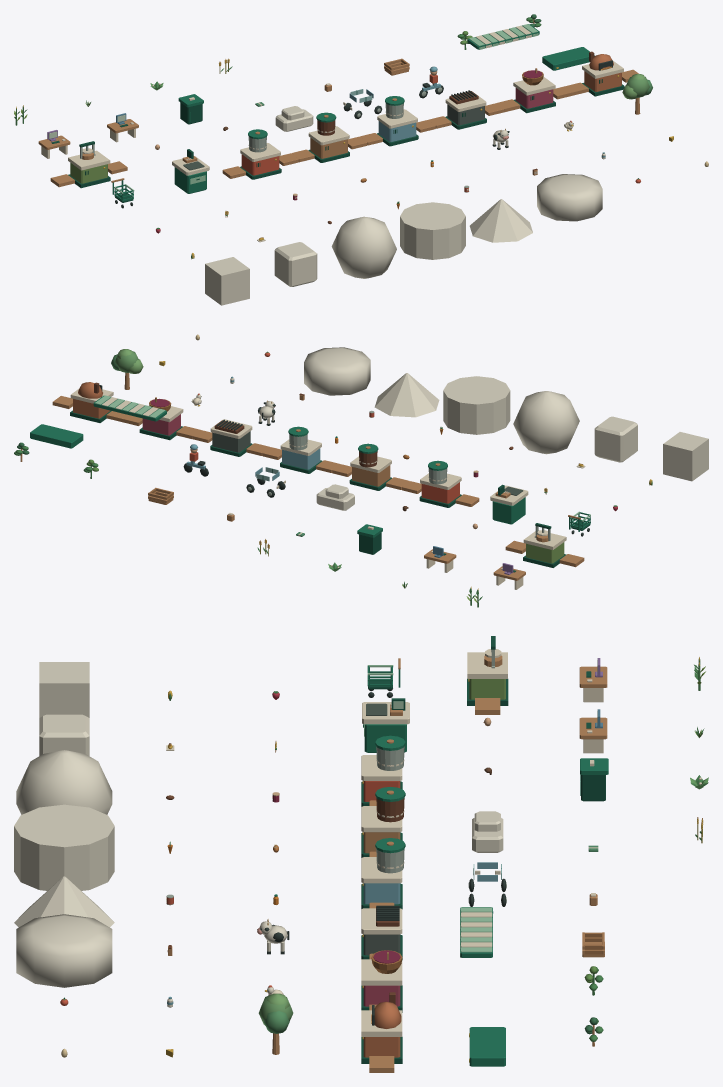
Rendered from market.glb.
The picture shows the model from 3 angles, top to bottom: view 1: azimuth 30°, elevation 25°; view 2: azimuth 150°, elevation 25°; view 3: azimuth 270°, elevation 25°; orthographic projection. The views are drawn at different scales.
Visible parts, largest first — view 1: kitDisc, kitBall, kitPill, machine_paste, machine_coffee, machine_dairy, kitBlock, kitCone, machine_press, machine_kettle, machine_oven, kitBevel (+9 smaller); view 2: kitDisc, kitBall, kitPill, kitBlock, machine_paste, kitCone, machine_coffee, machine_dairy, machine_press, kitBevel, machine_grill, machine_oven (+10 smaller); view 3: kitDisc, kitPill, kitBall, machine_oven, kitBlock, machine_dairy, machine_press, machine_paste, machine_coffee, machine_kettle, kitCone, machine_grill (+11 smaller).
Boxes of the visible parts, <box> form: kitDisc: <box>400,202,465,259</box>; kitBall: <box>331,216,396,278</box>; kitPill: <box>537,174,602,221</box>; machine_paste: <box>222,129,298,179</box>; machine_coffee: <box>291,112,367,162</box>; machine_dairy: <box>360,96,435,146</box>; kitBlock: <box>205,257,249,305</box>; kitCone: <box>469,199,532,242</box>; machine_press: <box>50,141,127,188</box>; machine_kettle: <box>496,68,573,113</box>; machine_oven: <box>565,51,638,96</box>; kitBevel: <box>274,242,317,286</box>; kitDisc: <box>443,376,510,434</box>; kitBall: <box>513,391,579,454</box>; kitPill: <box>304,347,370,395</box>; kitBlock: <box>663,432,708,481</box>; machine_paste: <box>402,460,479,507</box>; kitCone: <box>374,373,439,417</box>; machine_coffee: <box>332,443,409,490</box>; machine_dairy: <box>262,426,339,473</box>; machine_press: <box>505,523,584,567</box>; kitBevel: <box>594,416,637,462</box>; machine_grill: <box>192,419,269,456</box>; machine_oven: <box>52,382,127,422</box>; kitDisc: <box>14,804,114,890</box>; kitPill: <box>16,914,112,987</box>; kitBall: <box>16,750,112,814</box>; machine_oven: <box>361,992,402,1072</box>; kitBlock: <box>39,662,89,717</box>; machine_dairy: <box>361,838,405,909</box>; machine_press: <box>467,636,508,714</box>; machine_paste: <box>361,735,405,806</box>; machine_coffee: <box>361,787,405,857</box>; machine_kettle: <box>361,950,402,1012</box>; kitCone: <box>14,876,114,927</box>; machine_grill: <box>361,905,402,960</box>.
Bounding box in the file's own units: 19.21 × 2.59 × 13.79.
